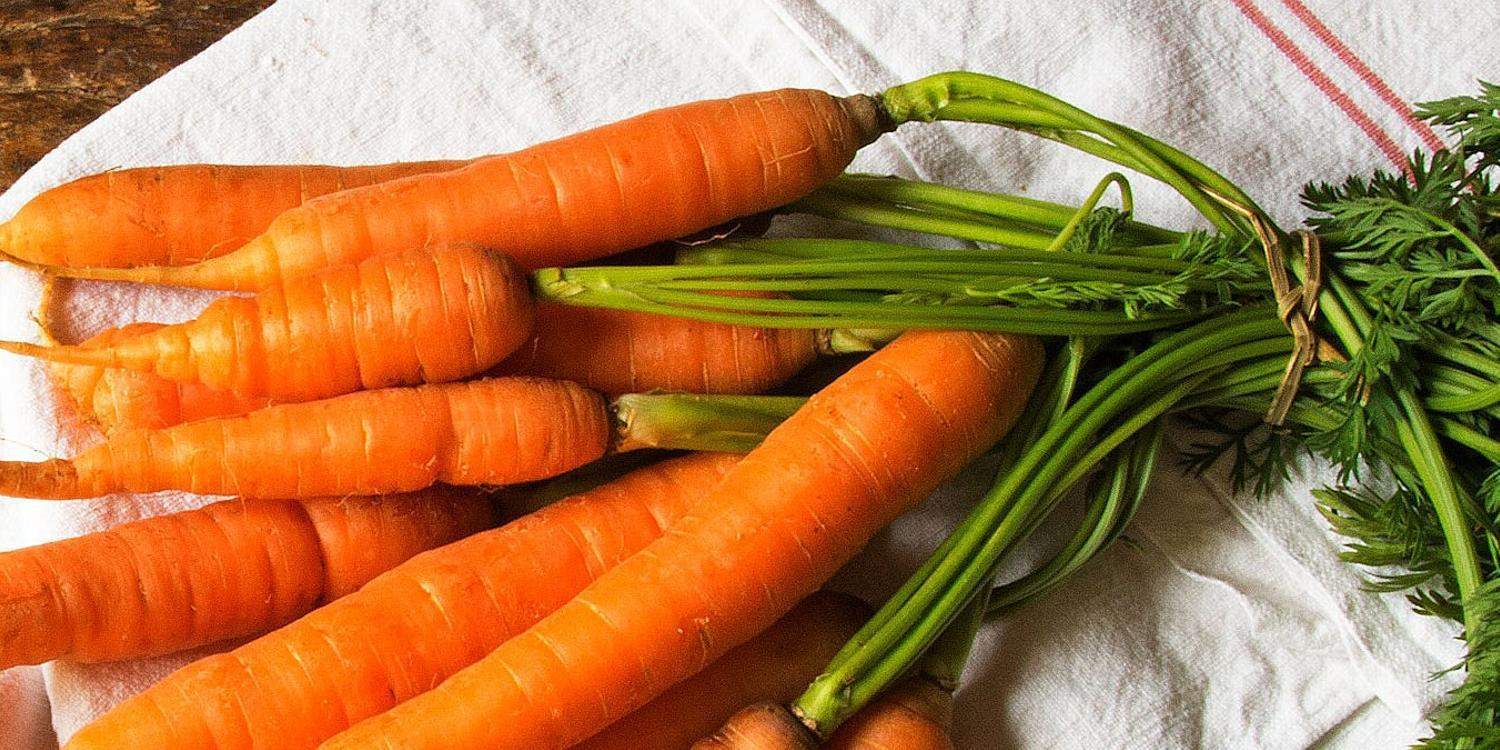carrot: (11, 103, 1037, 750), (0, 249, 632, 497)
